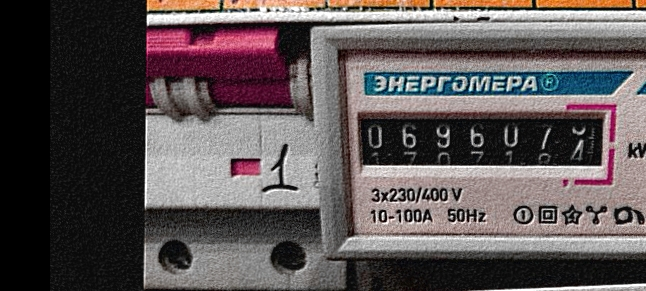0: (503, 119, 522, 150), (368, 122, 386, 150)
4: (570, 135, 588, 164)
6: (470, 120, 488, 149), (402, 121, 420, 149)
7: (537, 121, 557, 152)
9: (435, 122, 454, 150)
screen: (346, 98, 624, 185)
